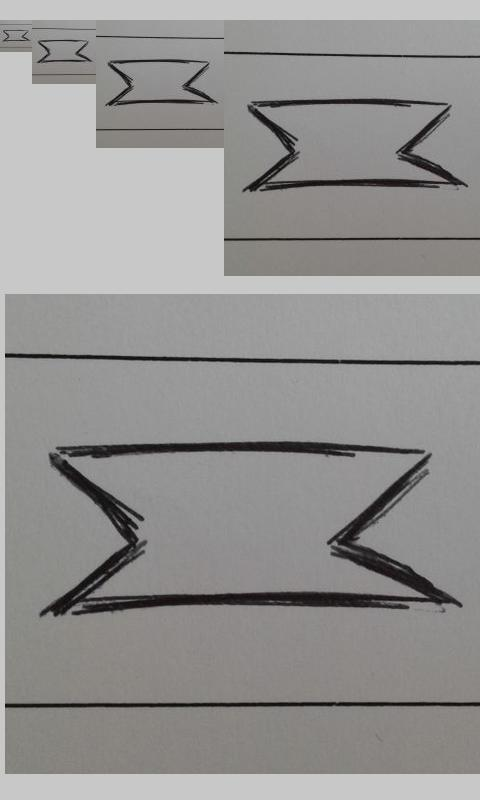edit_text: (39, 441, 462, 617), (244, 99, 465, 190), (106, 60, 217, 106), (37, 39, 92, 63), (2, 29, 30, 42)
